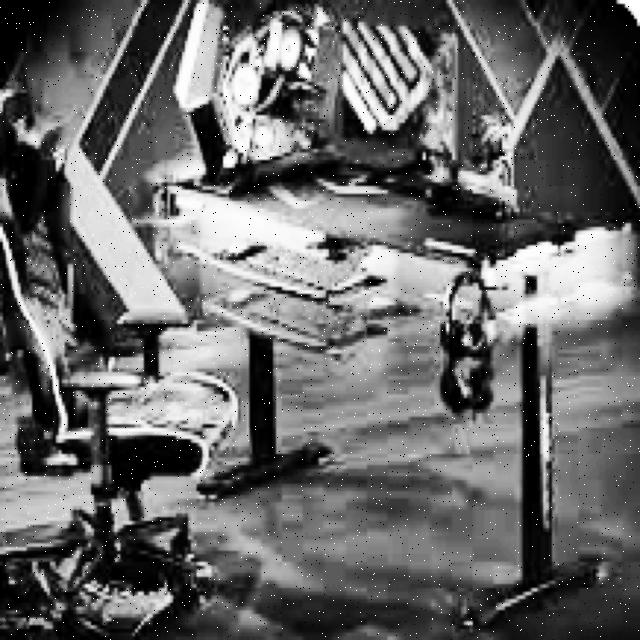book: (0, 82, 241, 636)
table: (135, 145, 596, 622)
